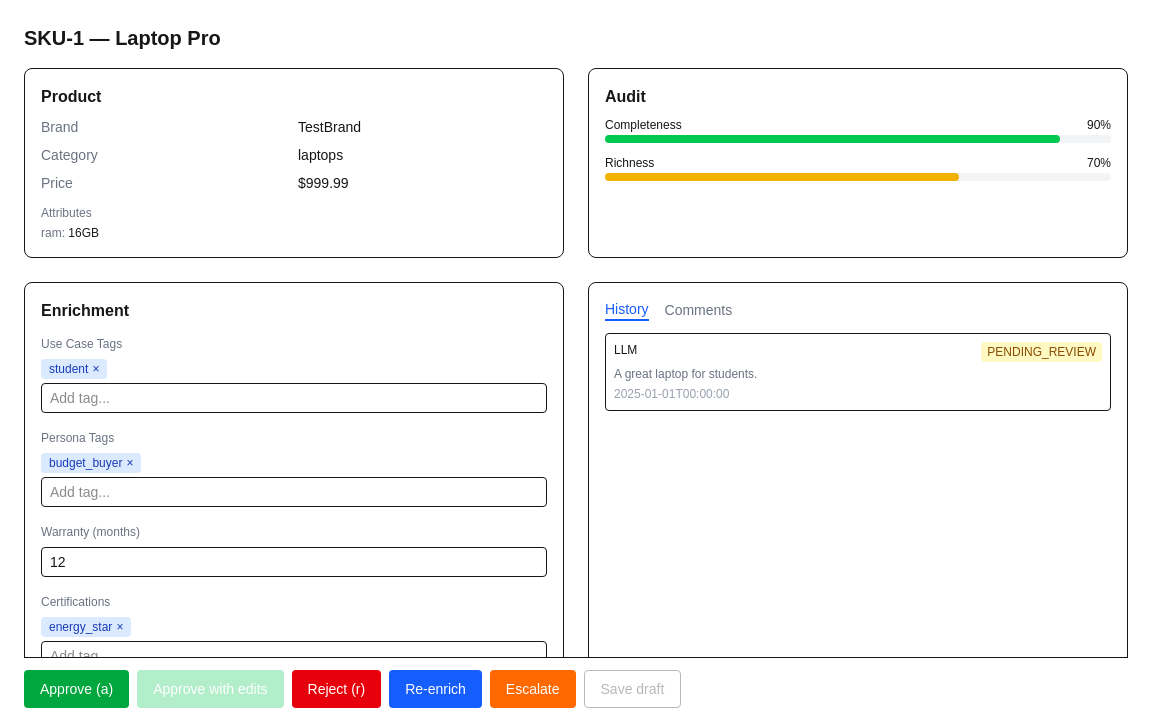
Test case: Review Workspace › reject modal requires reason min 10 chars
The width and height of the screenshot is (1152, 720).
Click the button "Reject (r)" at coordinates (336, 689), box [292,670,381,708]
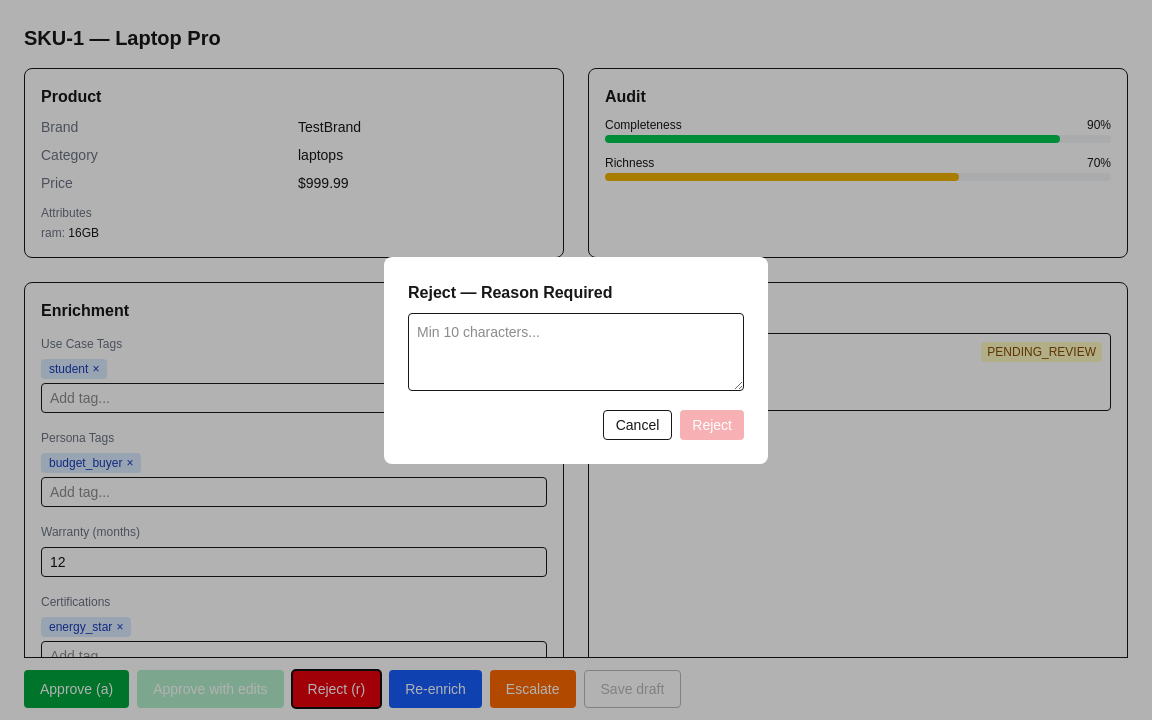
Expected: the heading "Reject — Reason Required" is shown, [408,284,612,300]
Expected: the button "Reject" is disabled, [680,410,744,440]
Note: Type a short reason
Type "Too short" into the text box with placeholder "Min 10 characters..." at coordinates (576, 352), box [408,312,744,390]
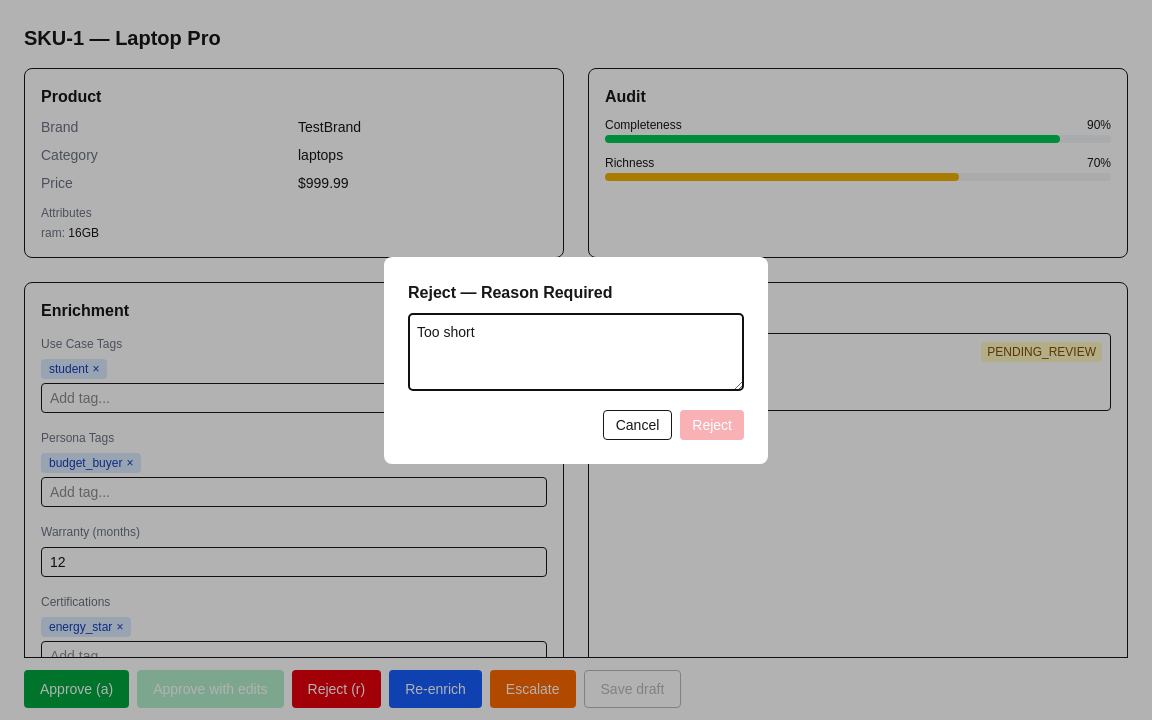
Expected: the button "Reject" is disabled, [680,410,744,440]
Note: Type enough
Replace the text in the text box with placeholder "Min 10 characters..." with "This is a sufficient rejection reason" at coordinates (576, 352), box [408,312,744,390]
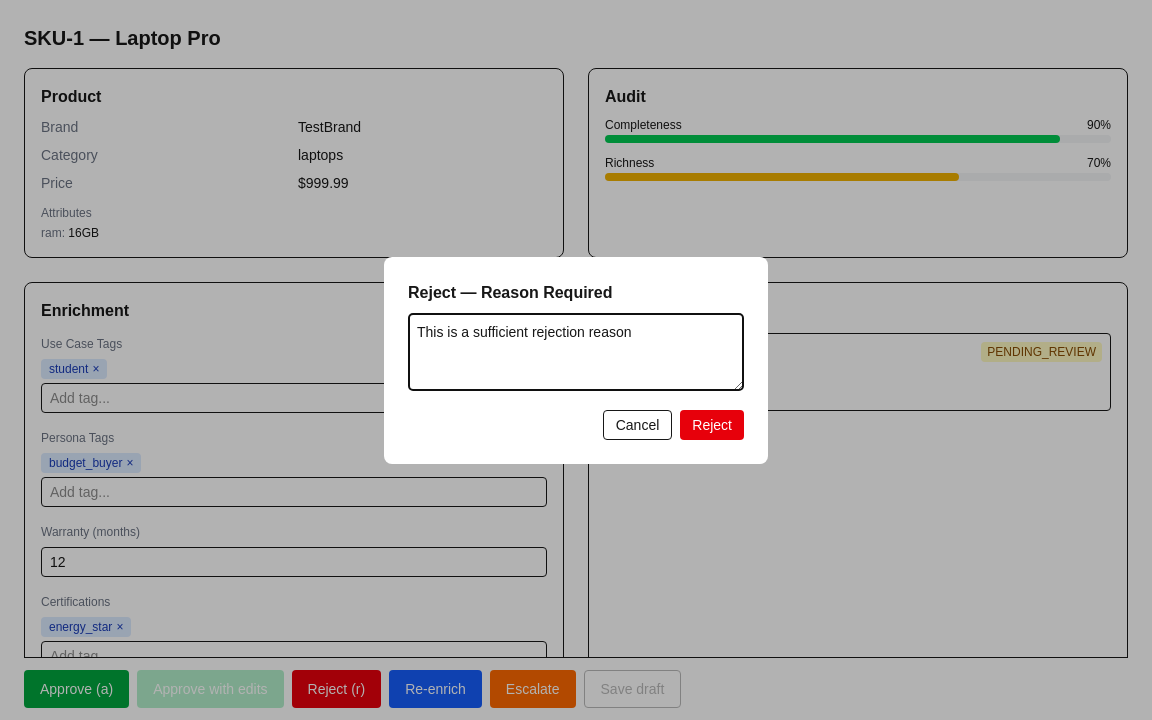
Expected: the button "Reject" is enabled, [680,410,744,440]
